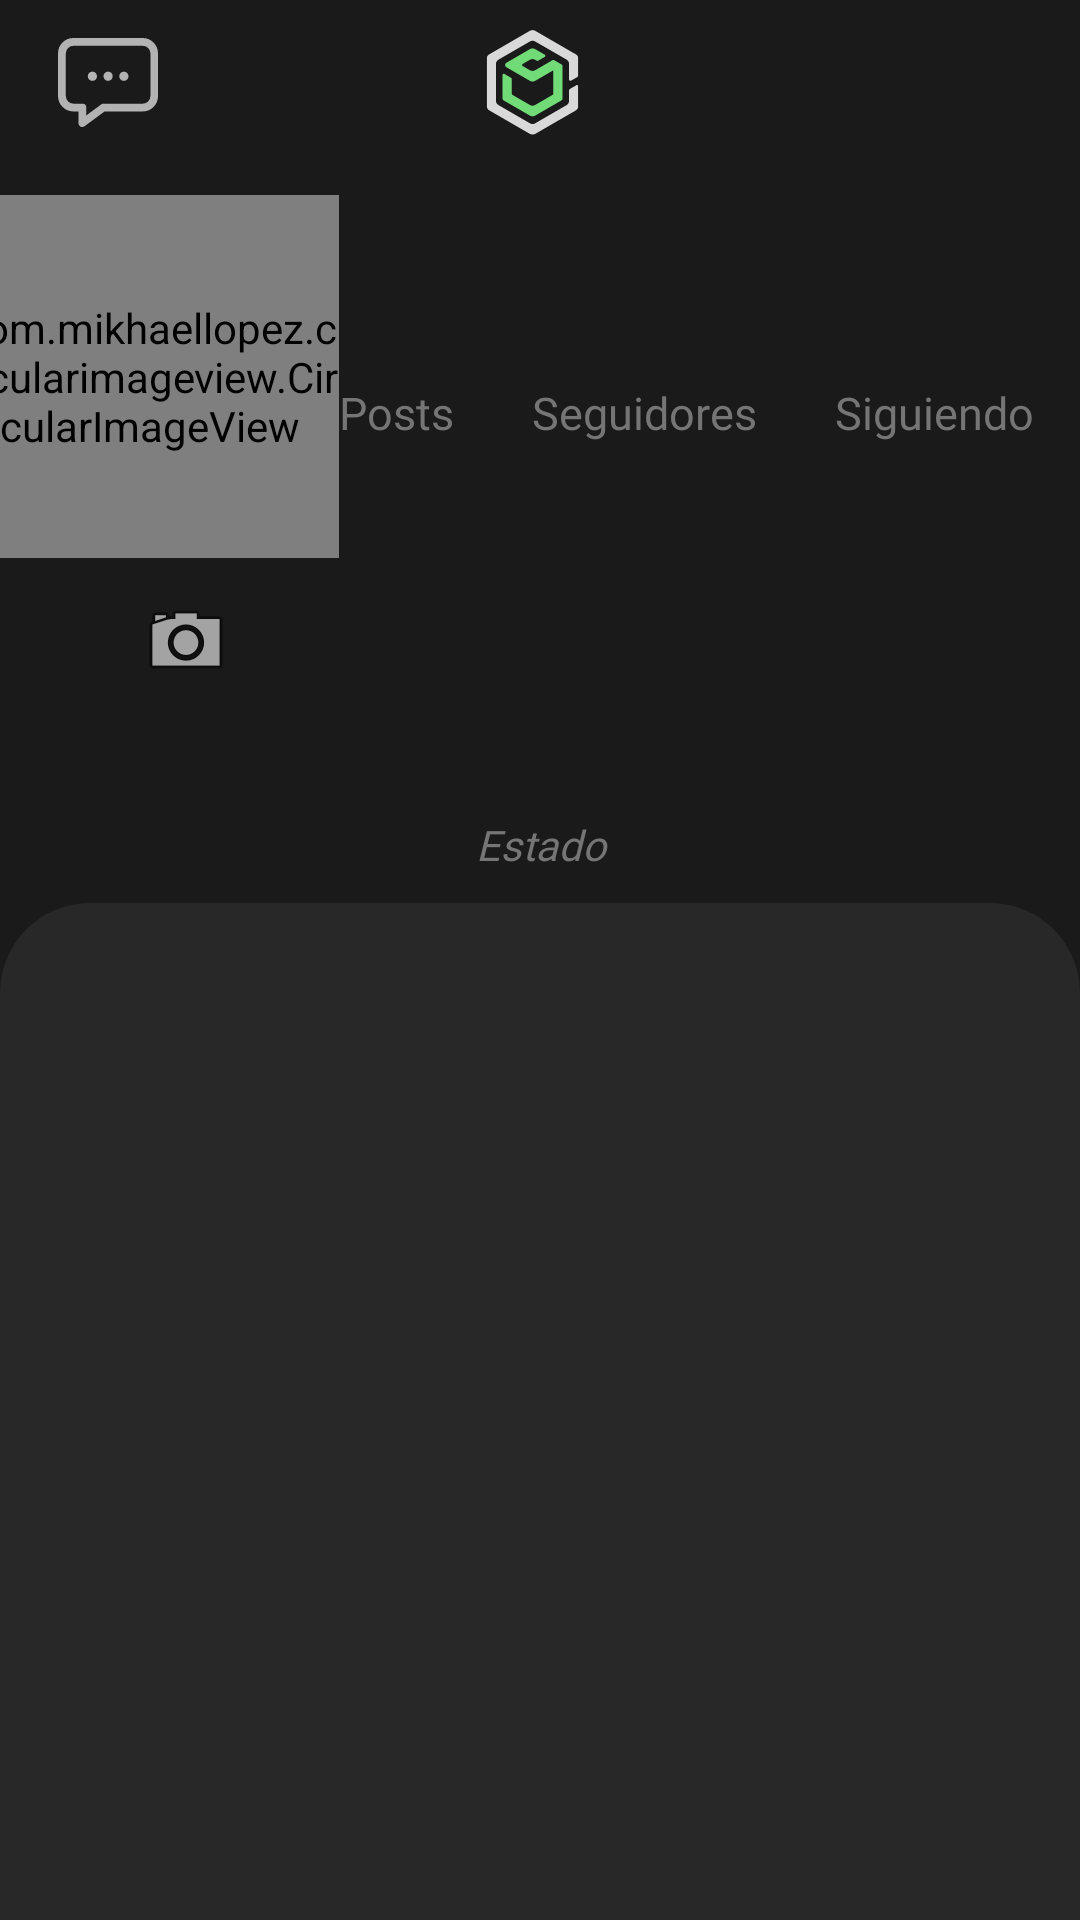

Icons on this 1080 x 1920 Android screen, each with the point to tap as (x,y):
message: (108,82)
